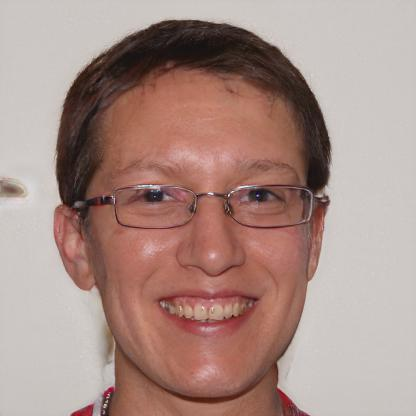glasses: (98, 177, 321, 235)
